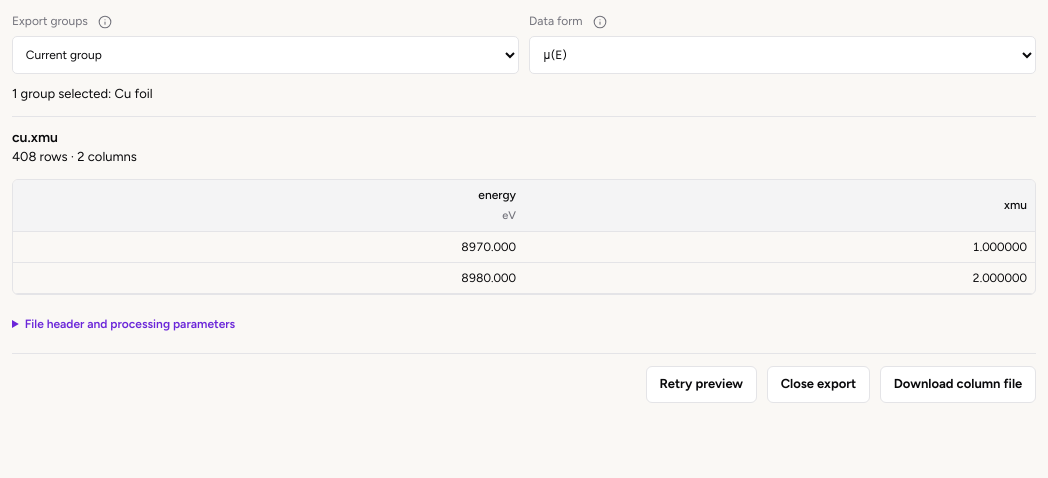
Scenario: reports download conflicts without starting a browser download
Expected: the text "408 rows · 2 columns" is shown, [12, 149, 137, 164]
Click the button "Download column file". click: [958, 384]
box: [880, 366, 1036, 403]
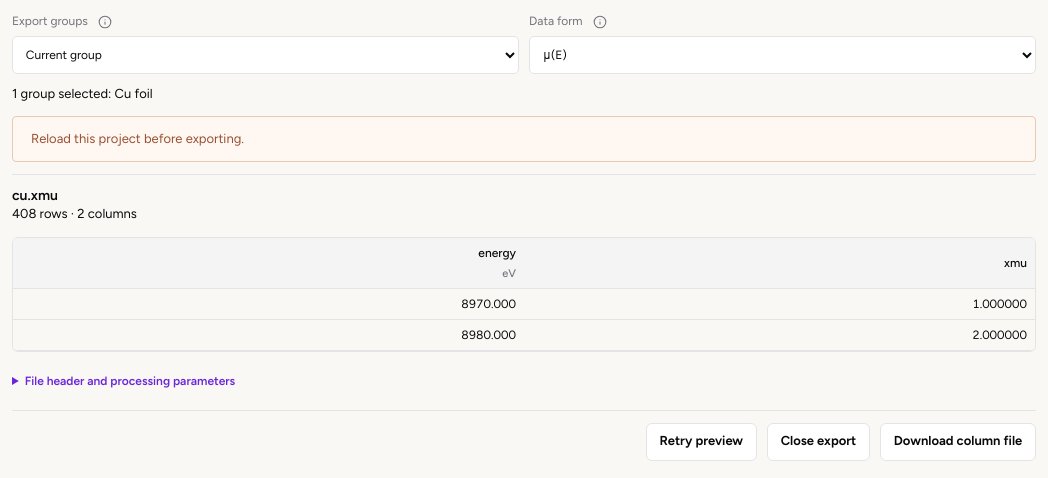
Result: the message shows "Reload this project" at [31, 131, 244, 146]
